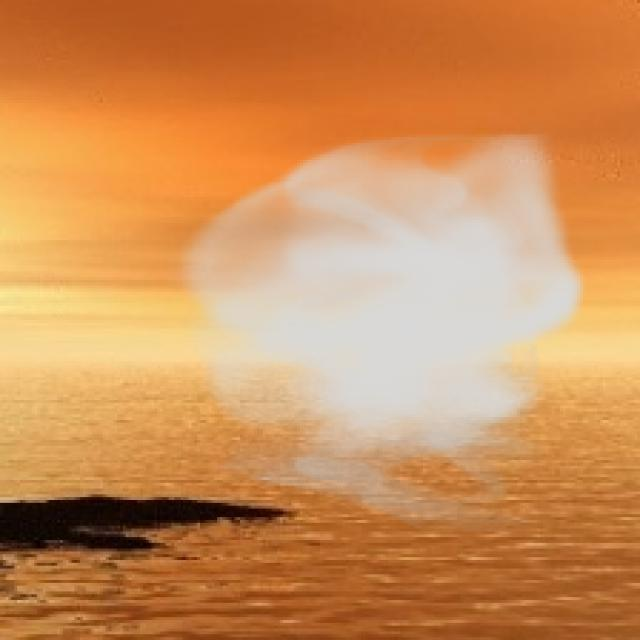Smoke: (166, 120, 588, 537)
